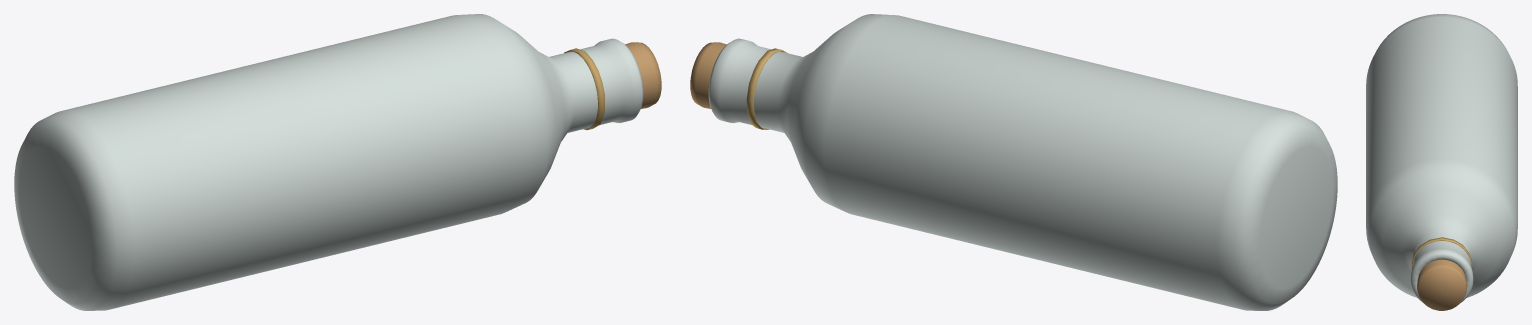
The model's file is bottle-first.glb.
3 renders of one model, left to right at view 1: azimuth 30°, elevation 25°; view 2: azimuth 150°, elevation 25°; view 3: azimuth 270°, elevation 25°, orthographic. The views are drawn at different scales.
Visible parts, largest first — view 1: Bottle | thick transparent glass, Bottle | cork stopper, Bottle | neck brass collar; view 2: Bottle | thick transparent glass, Bottle | cork stopper, Bottle | neck brass collar; view 3: Bottle | thick transparent glass, Bottle | cork stopper, Bottle | neck brass collar.
Boxes of the visible parts, bbox=[...] form: Bottle | thick transparent glass: bbox=[14, 14, 643, 310]; Bottle | cork stopper: bbox=[625, 42, 661, 108]; Bottle | neck brass collar: bbox=[564, 48, 604, 130]; Bottle | thick transparent glass: bbox=[708, 14, 1337, 310]; Bottle | cork stopper: bbox=[690, 42, 726, 108]; Bottle | neck brass collar: bbox=[746, 48, 787, 129]; Bottle | thick transparent glass: bbox=[1366, 14, 1517, 302]; Bottle | cork stopper: bbox=[1417, 259, 1466, 310]; Bottle | neck brass collar: bbox=[1411, 237, 1472, 269].
Bounding box in the file's own units: 0.3008 × 0.0902 × 0.0902.
